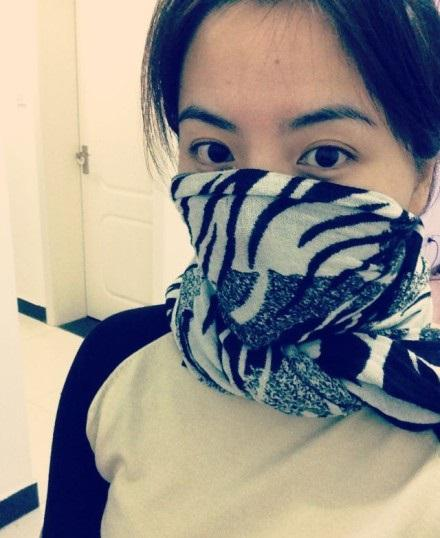OK: (171, 107, 395, 330)
